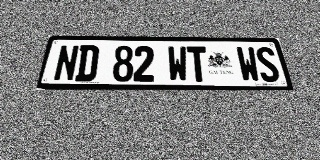2: (133, 46, 154, 82)
8: (112, 45, 134, 82)
D: (74, 45, 100, 82)
N: (53, 45, 80, 81)
S: (254, 47, 281, 82)
T: (187, 46, 209, 82)
W: (235, 47, 261, 82), (167, 46, 189, 82)
